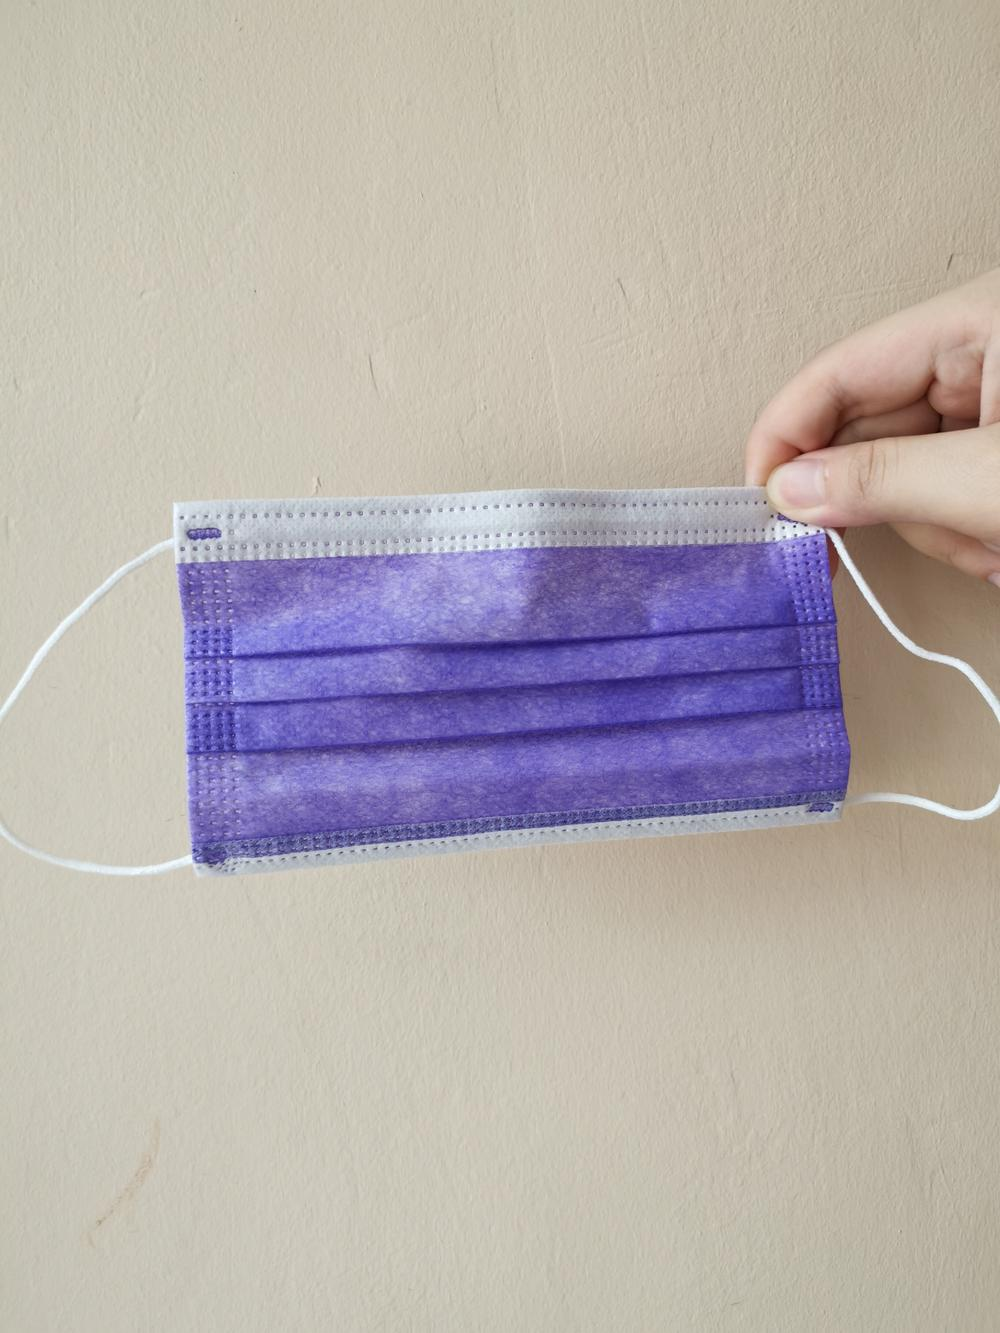Face Mask: (178, 511, 839, 832)
Undefined Object: (735, 273, 1000, 553)
